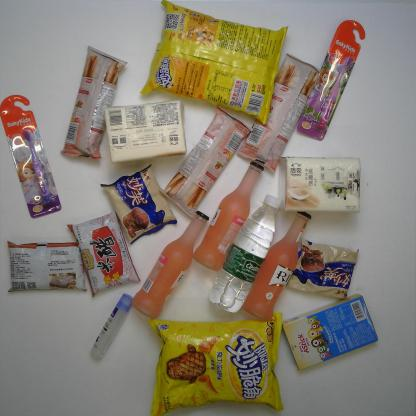Alcohol: (131, 210, 208, 318), (192, 161, 266, 272), (241, 210, 311, 322)
Dessert: (159, 104, 253, 219), (236, 52, 322, 175), (56, 44, 128, 162), (282, 294, 378, 372), (98, 165, 177, 245), (282, 236, 360, 300)
Drink: (208, 194, 282, 312)
Personal Hygiene: (295, 19, 366, 142), (1, 94, 62, 218)
Puffed Food: (138, 0, 289, 125), (140, 312, 284, 413)
Seasoner: (67, 209, 142, 294), (4, 239, 87, 294)
Stationery: (88, 292, 132, 359)
Tissue: (103, 99, 187, 163), (280, 155, 362, 214)
